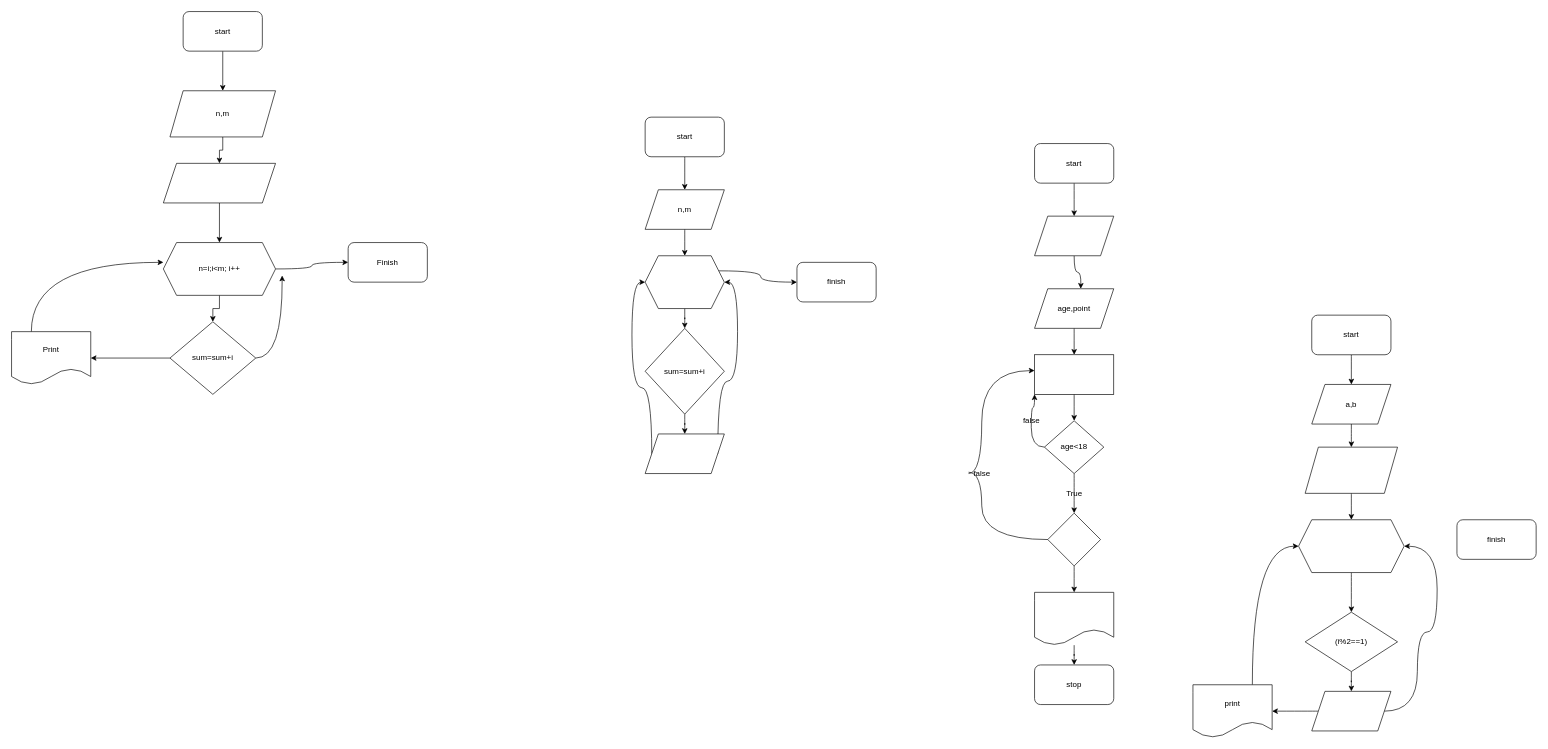
The diagram is 1548 pixels wide and 749 high, and some of its shapes have lost their labels. Here are the shapes that lost their labels. From the top down, the centre of each, then its label:
point 219,183: n=20 m=50 sum=0
point 1074,235: student
point 684,282: n=i i<m
point 1074,374: student++
point 684,453: i++
point 1351,469: a=1 b=20 sum=0
point 1074,539: point<50
point 1351,546: i=a; i<b; i++
point 1074,618: winner
point 1351,711: sum+=i
